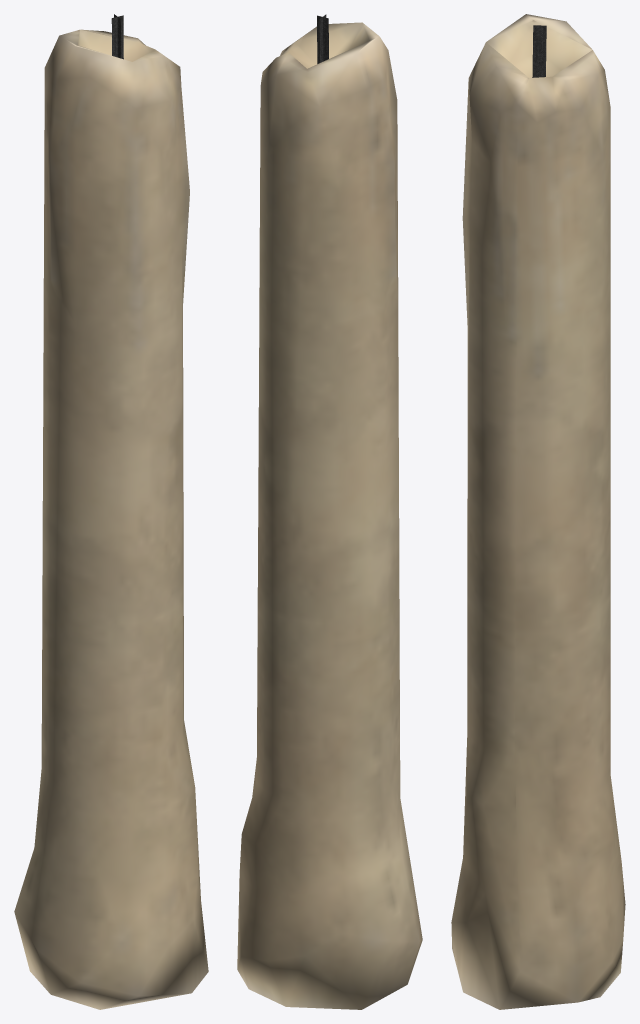
Rendered from SM_Candle_01.gltf.
3 views of the same model, side by side, from view 1: azimuth 30°, elevation 25°; view 2: azimuth 150°, elevation 25°; view 3: azimuth 270°, elevation 25° (orthographic).
Parts seen in each view (by area): view 1: SM_Candle_01_LOD0; view 2: SM_Candle_01_LOD0; view 3: SM_Candle_01_LOD0.
Boxes of the visible parts, x1=… form: SM_Candle_01_LOD0: x1=14, y1=14, x2=208, y2=1009; SM_Candle_01_LOD0: x1=237, y1=14, x2=422, y2=1009; SM_Candle_01_LOD0: x1=451, y1=14, x2=625, y2=1009.
Size of what is drawn, in the model's own units: 0.1147 by 0.6463 by 0.1073.
Materials: 1 (1 with a texture image).
